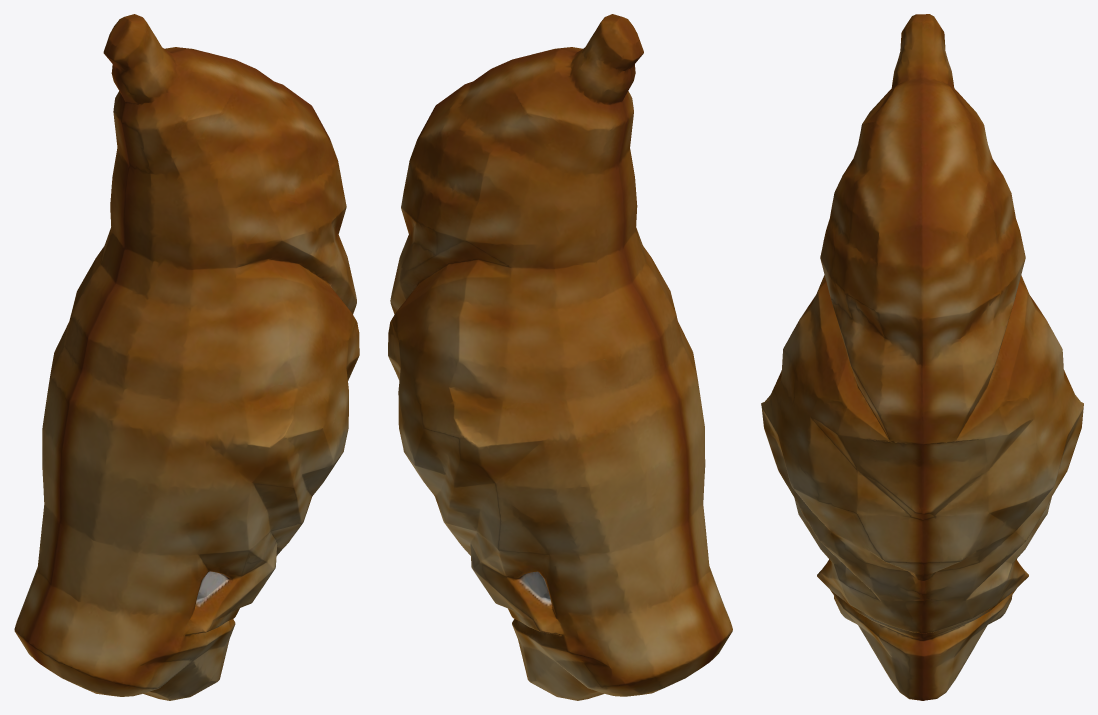
Rendered from crisalida_nueva.fbx.
The picture shows the model from 3 angles, left to right: view 1: azimuth 30°, elevation 25°; view 2: azimuth 150°, elevation 25°; view 3: azimuth 270°, elevation 25°; orthographic projection. The views are drawn at different scales.
Visible parts, largest first — view 1: tripo_node_4b1052fb; view 2: tripo_node_4b1052fb; view 3: tripo_node_4b1052fb.
Boxes of the visible parts, bbox=[...] form: tripo_node_4b1052fb: bbox=[14, 14, 359, 700]; tripo_node_4b1052fb: bbox=[388, 14, 732, 700]; tripo_node_4b1052fb: bbox=[761, 14, 1083, 700].
Bounding box in the file's own units: 0.4588 × 0.9787 × 0.4365.
